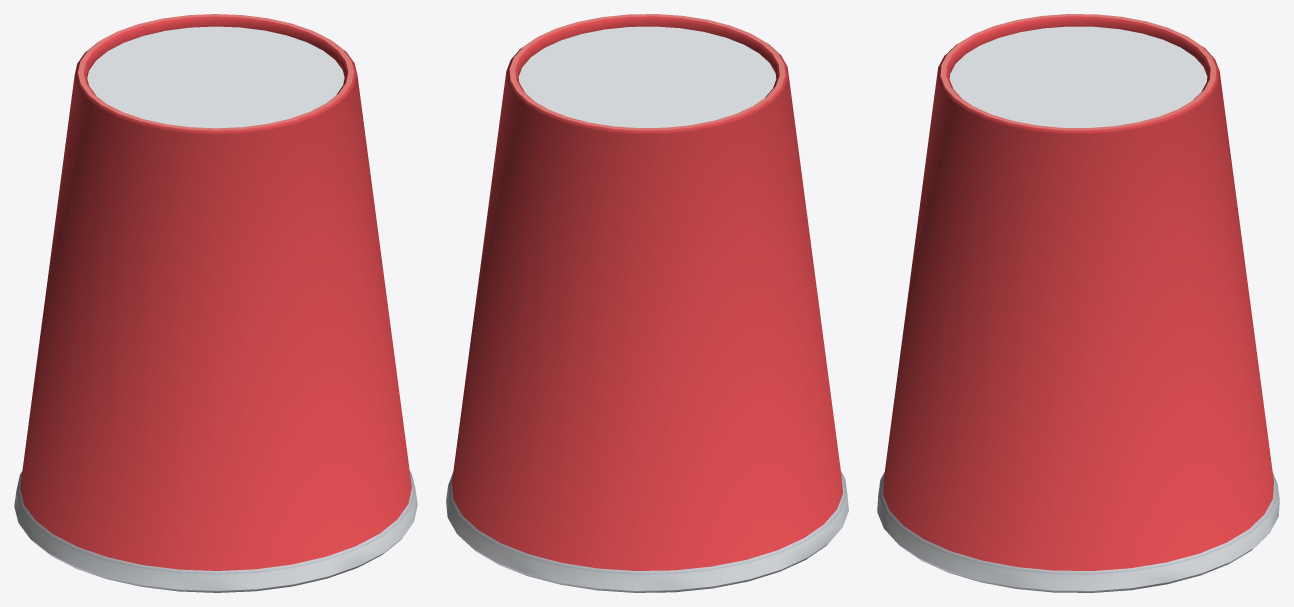
File: copo_papel_vermelho_pacote.glb
3 renders of one model, left to right at view 1: azimuth 30°, elevation 25°; view 2: azimuth 150°, elevation 25°; view 3: azimuth 270°, elevation 25°, orthographic.
Parts seen in each view (by area): view 1: copo_papel_vermelho_pacote; view 2: copo_papel_vermelho_pacote; view 3: copo_papel_vermelho_pacote.
Part boxes in pixels (left/top/right/bottom): copo_papel_vermelho_pacote: left=14, top=14, right=417, bottom=592; copo_papel_vermelho_pacote: left=446, top=14, right=848, bottom=592; copo_papel_vermelho_pacote: left=877, top=14, right=1279, bottom=592.
Size of the model in its own units: 0.1007 by 0.1207 by 0.1007.
Materials: 1 (1 with a texture image).
